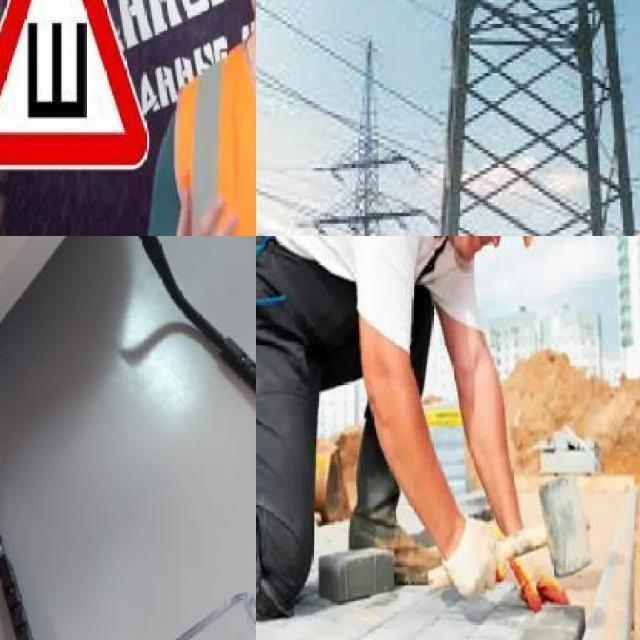apron: (440, 515, 498, 604), (509, 542, 572, 616)
